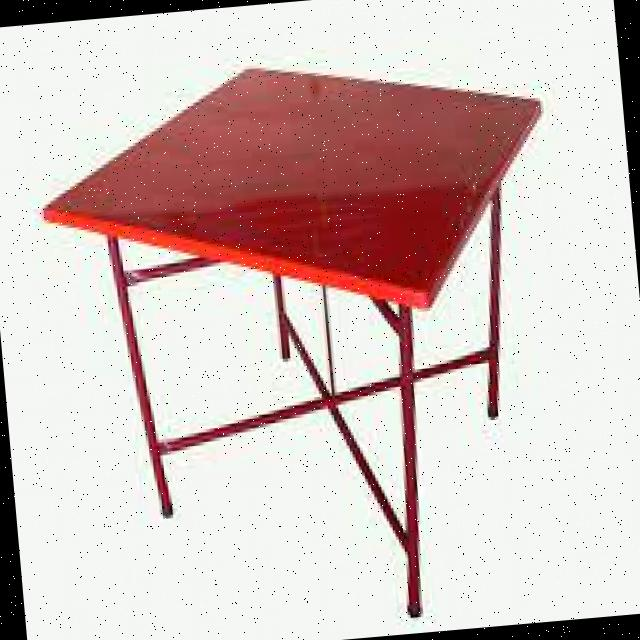Table: (26, 33, 619, 640)
